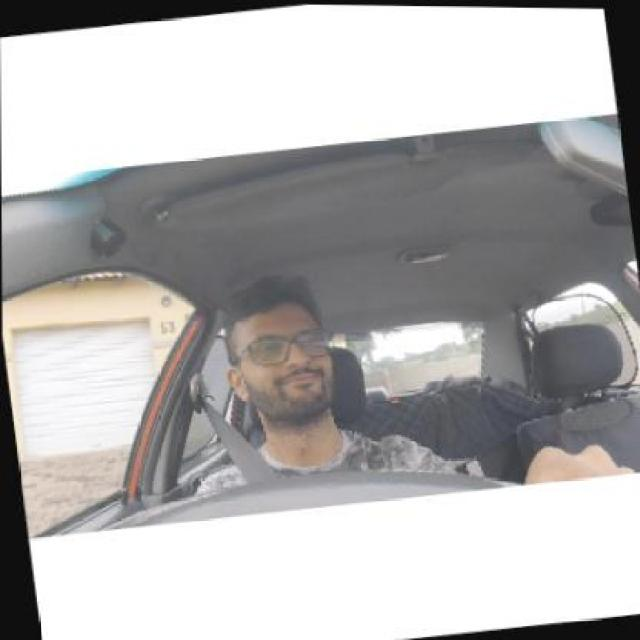person: (217, 295, 337, 419)
